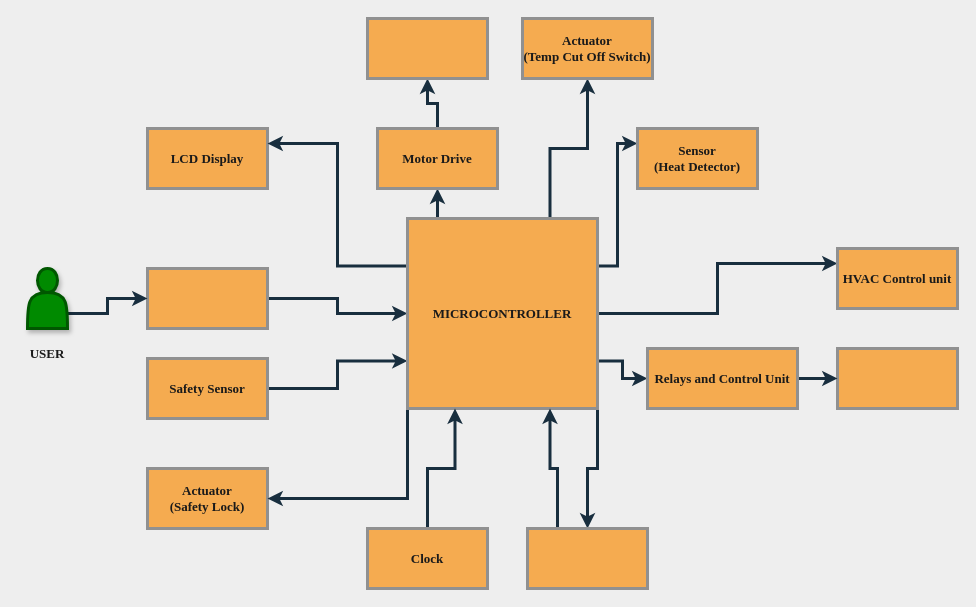
Image size: 976x607. Some labels were removed from this diagram. The shapes that lost their labels are listed below. From the top down, each one's centre as x and y in pixels, then its label:
At point (427, 48): "Actuator (Motor)".
At point (207, 298): "Button/Touch Screen".
At point (897, 378): "Magnetron".
At point (587, 558): "EEPROM".
